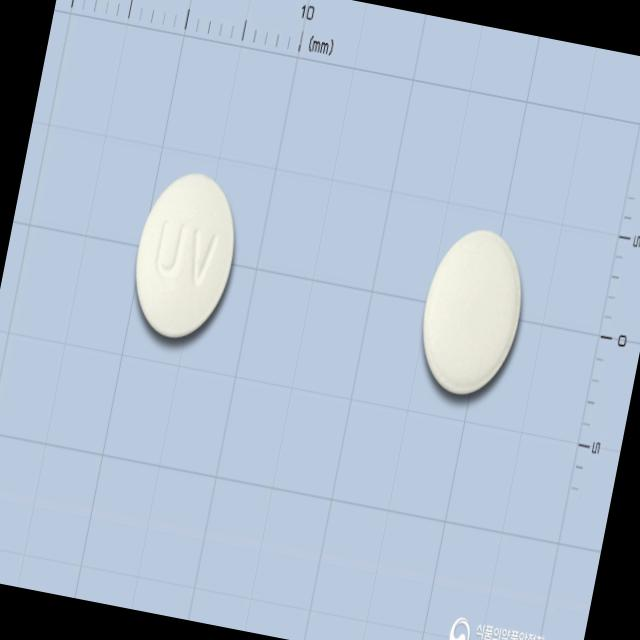Unilevo Tab: (123, 162, 250, 347)
